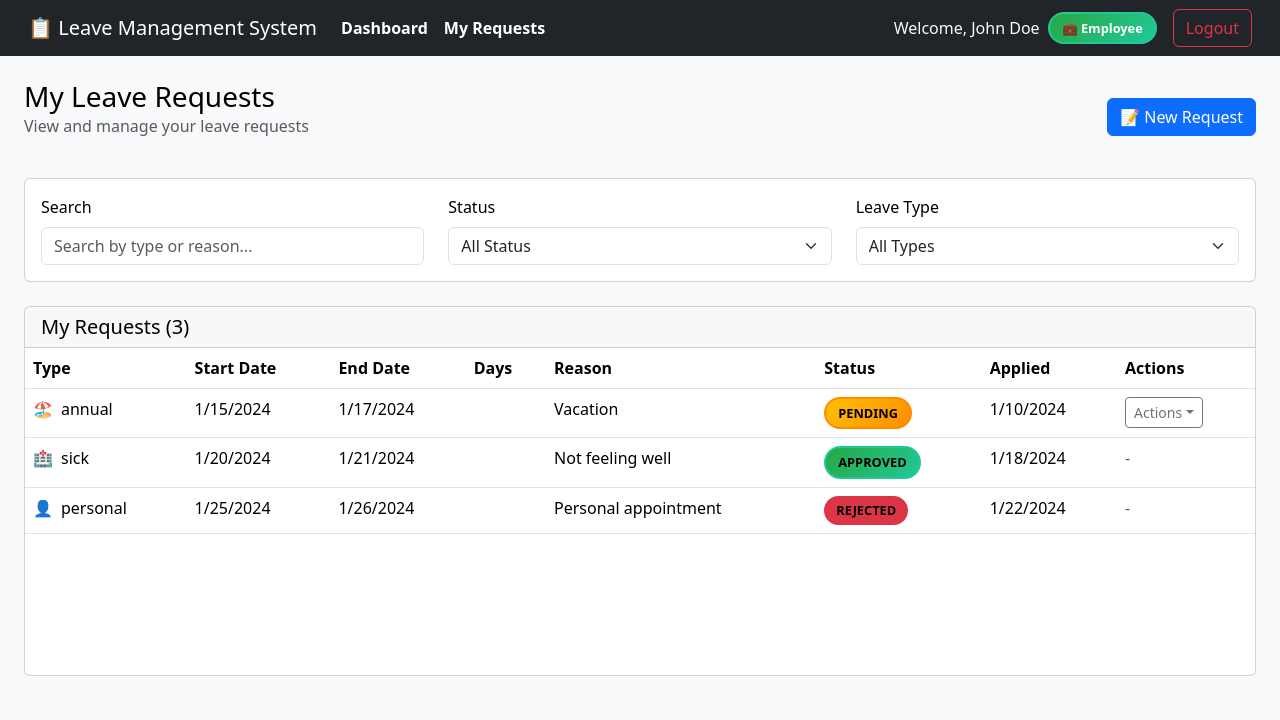
Test case: LeaveRequestsPage Component › filters requests by leave type
The image size is (1280, 720).
Expected: the heading "My Leave Requests" is shown, [24,80,309,114]
Select "Annual" in the dropdown showing "All Types" below "Leave Type" at (1047, 246), box [856,227,1239,265]
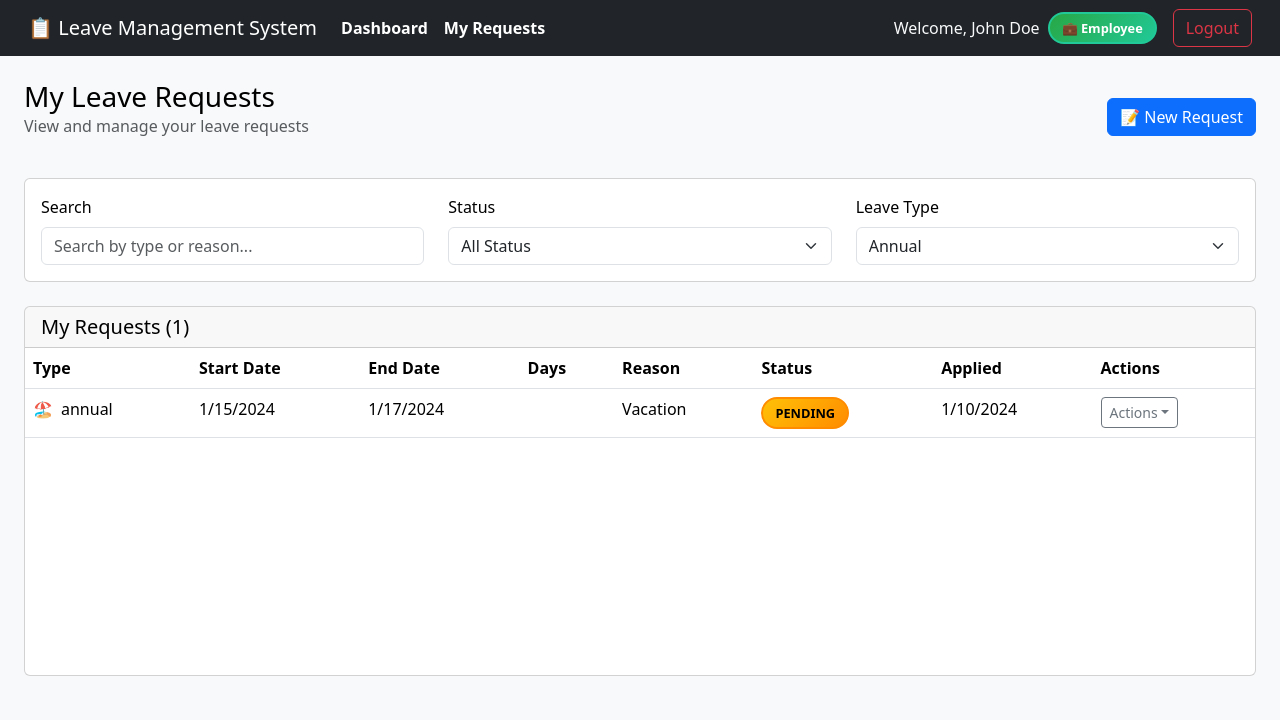
Expected: the text "Vacation" is shown, [622,398,686,420]
Expected: the text "Not feeling well" is gone
